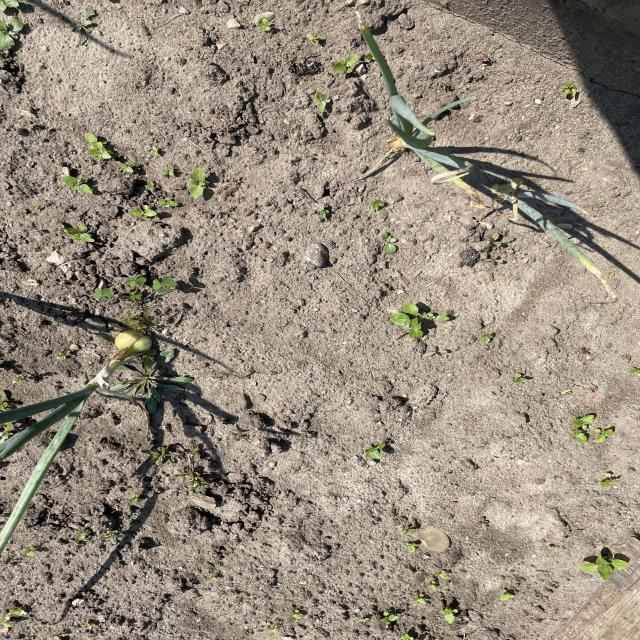Onion: (0, 318, 159, 480), (358, 46, 472, 194), (486, 169, 605, 276)
weed: (133, 166, 214, 222), (82, 272, 180, 314), (582, 542, 632, 598), (552, 411, 620, 449), (389, 302, 442, 349), (51, 220, 106, 251), (66, 135, 122, 163), (53, 172, 101, 203)
